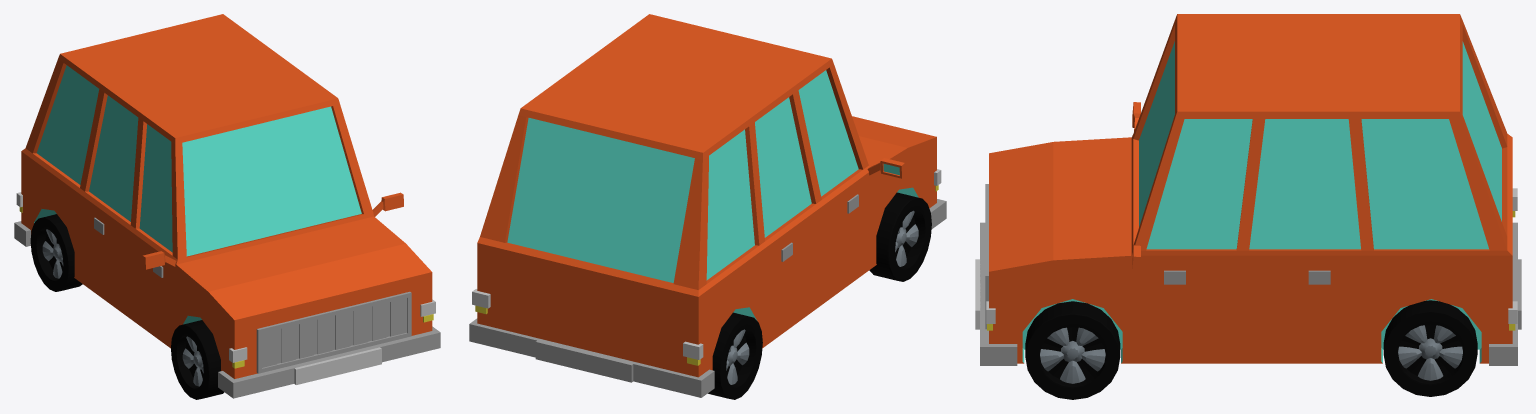
Rendered from car1_H.fbx.
The picture shows the model from 3 angles, left to right: view 1: azimuth 30°, elevation 25°; view 2: azimuth 150°, elevation 25°; view 3: azimuth 270°, elevation 25°; orthographic projection. The views are drawn at different scales.
Parts seen in each view (by area): view 1: Cube.005, Cylinder.010, Cylinder.011; view 2: Cube.005, Cylinder.010, Cylinder.011; view 3: Cube.005, Cylinder.010, Cylinder.011.
Boxes of the visible parts, <box> form: Cube.005: <box>14,14,440,398</box>; Cylinder.010: <box>171,320,224,399</box>; Cylinder.011: <box>30,214,82,291</box>; Cube.005: <box>469,14,946,397</box>; Cylinder.010: <box>869,192,931,281</box>; Cylinder.011: <box>708,312,762,399</box>; Cube.005: <box>975,14,1521,365</box>; Cylinder.010: <box>1025,301,1120,399</box>; Cylinder.011: <box>1383,300,1477,396</box>.
Bounding box in the file's own units: 1.99 × 2.98 × 1.64.
